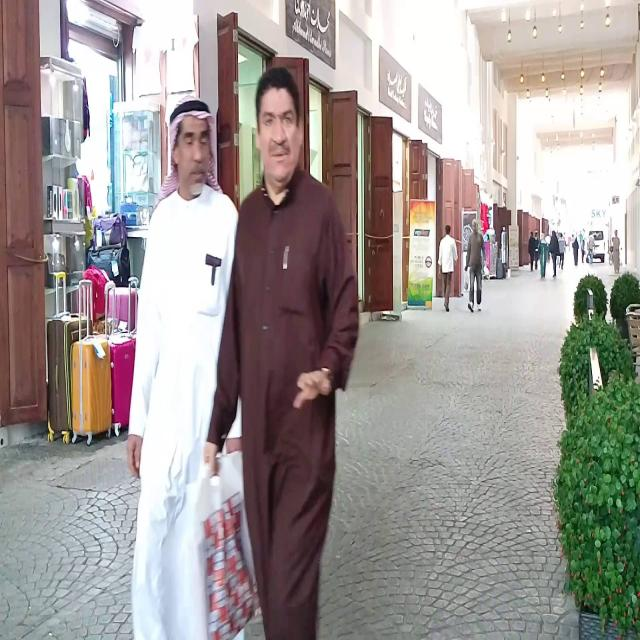body: (202, 64, 361, 639), (125, 93, 244, 640), (463, 216, 487, 315), (437, 223, 459, 313), (548, 230, 561, 278), (537, 232, 547, 279), (612, 229, 620, 274), (557, 232, 566, 270), (571, 231, 579, 266), (587, 230, 595, 264), (528, 231, 534, 272), (534, 230, 540, 271), (544, 235, 551, 265), (580, 230, 585, 264), (567, 234, 571, 252)
